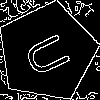U: (22, 27, 81, 80)
